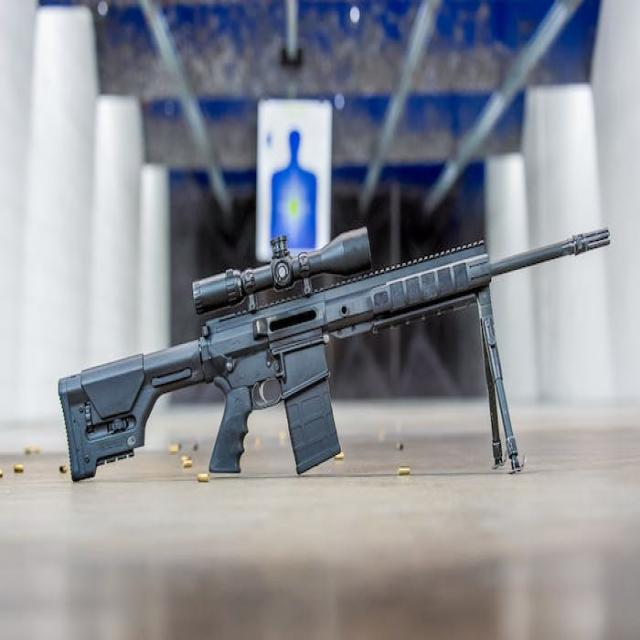Rifle: (57, 229, 613, 484)
